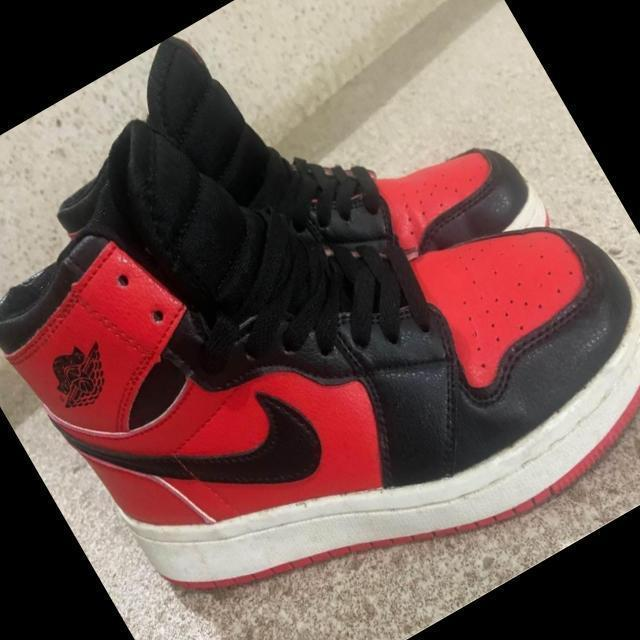nike fake jordan 1: (0, 0, 640, 640), (4, 0, 556, 442)
